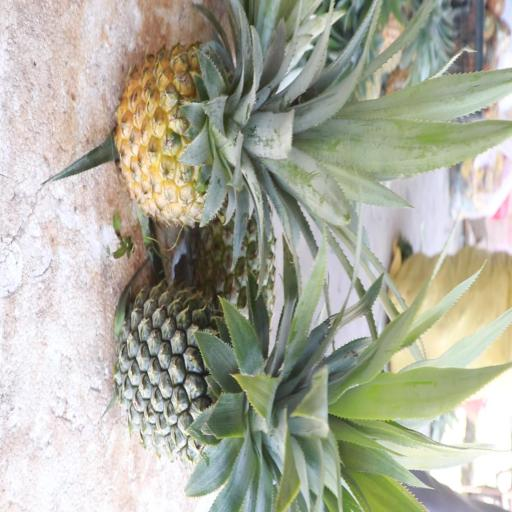Pineapple - v8 v1: (108, 33, 358, 239)
